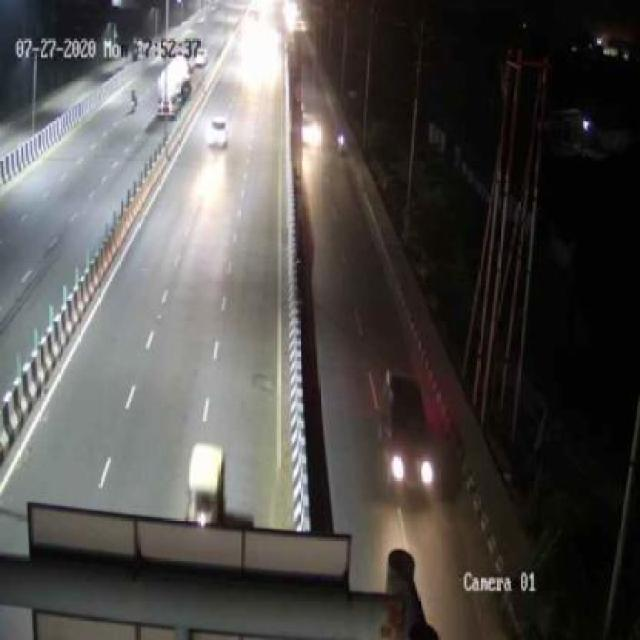car: (375, 370, 437, 492), (299, 111, 326, 151), (210, 109, 232, 149)
